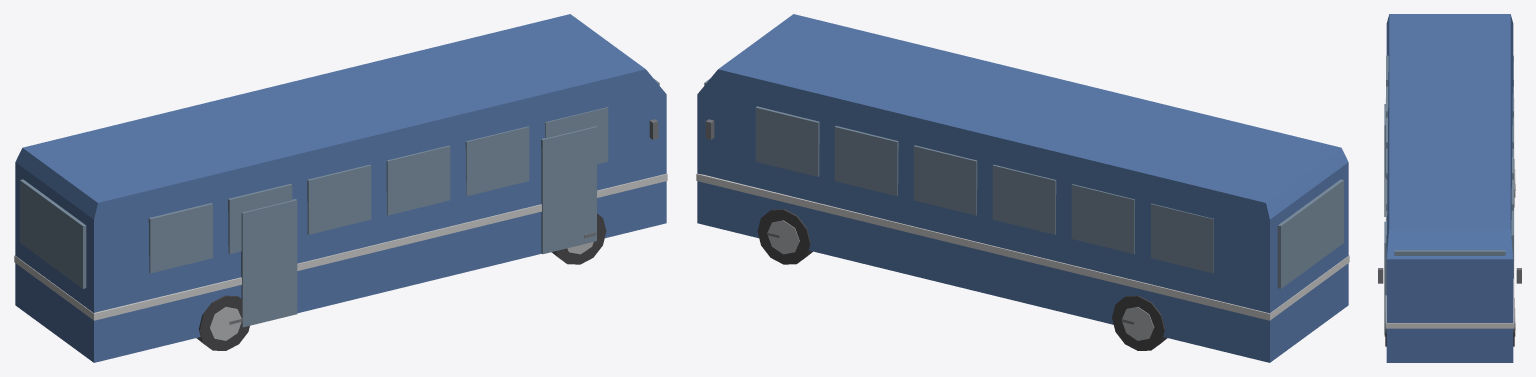
The model's file is Arac_Otobus.glb.
3 views of the same model, side by side, from view 1: azimuth 30°, elevation 25°; view 2: azimuth 150°, elevation 25°; view 3: azimuth 270°, elevation 25° (orthographic). The views are drawn at different scales.
Parts seen in each view (by area): view 1: Arac_Otobus, Wheel_1.011, Wheel_0.011; view 2: Arac_Otobus, Wheel_2.011, Wheel_3.011; view 3: Arac_Otobus.
Part boxes in pixels (x1,y1,x2,y2): Arac_Otobus: [14, 14, 667, 362]; Wheel_1.011: [196, 295, 249, 350]; Wheel_0.011: [551, 213, 606, 264]; Arac_Otobus: [696, 14, 1349, 362]; Wheel_2.011: [757, 209, 812, 264]; Wheel_3.011: [1112, 295, 1167, 350]; Arac_Otobus: [1378, 14, 1521, 362].
Size of the model in its own units: 10.57 by 3.1 by 2.84.
